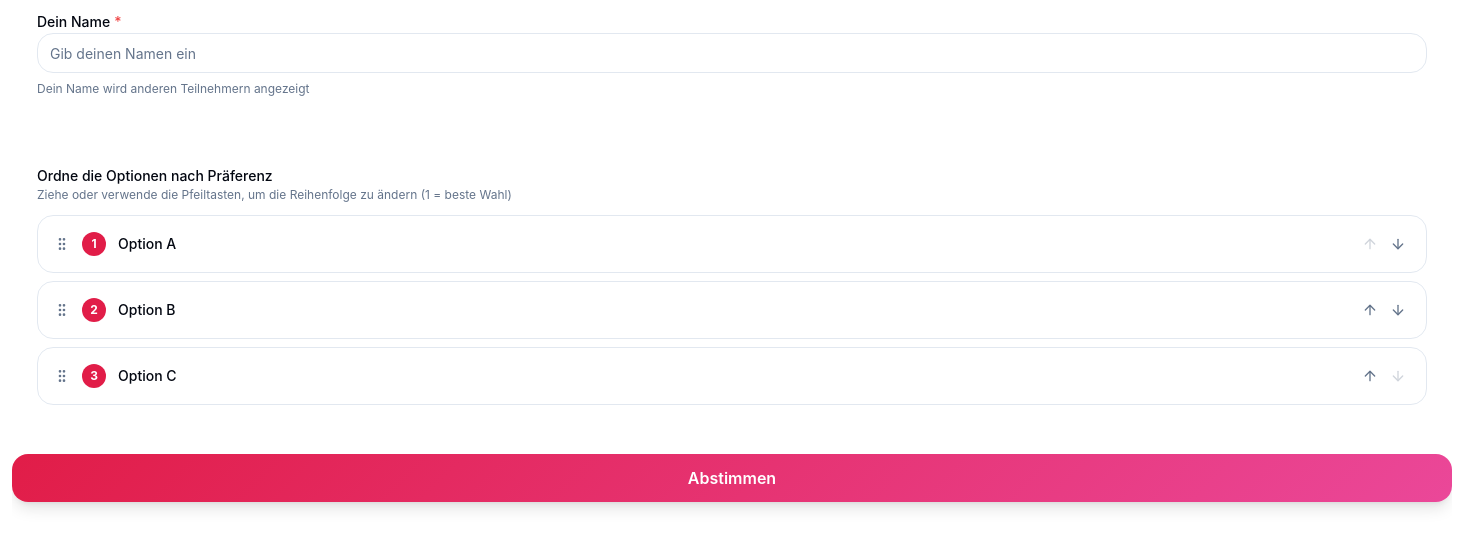
VotingForm › clears ranked validation error after reordering
# Fill in name
Type "Test User" into the field with placeholder "Gib deinen Namen ein".
click(732, 53); type("Test User")  # box [37, 33, 1427, 73]
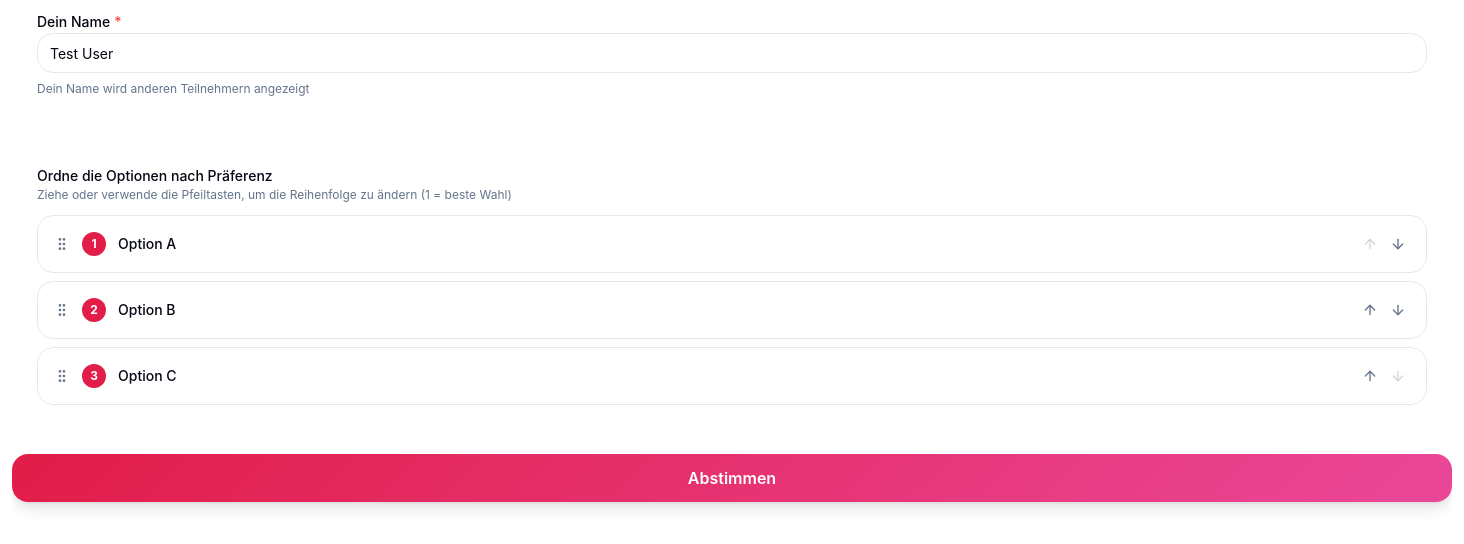
# Submit without reordering
Click the button "Abstimmen".
click(732, 478)  # box [12, 454, 1452, 502]
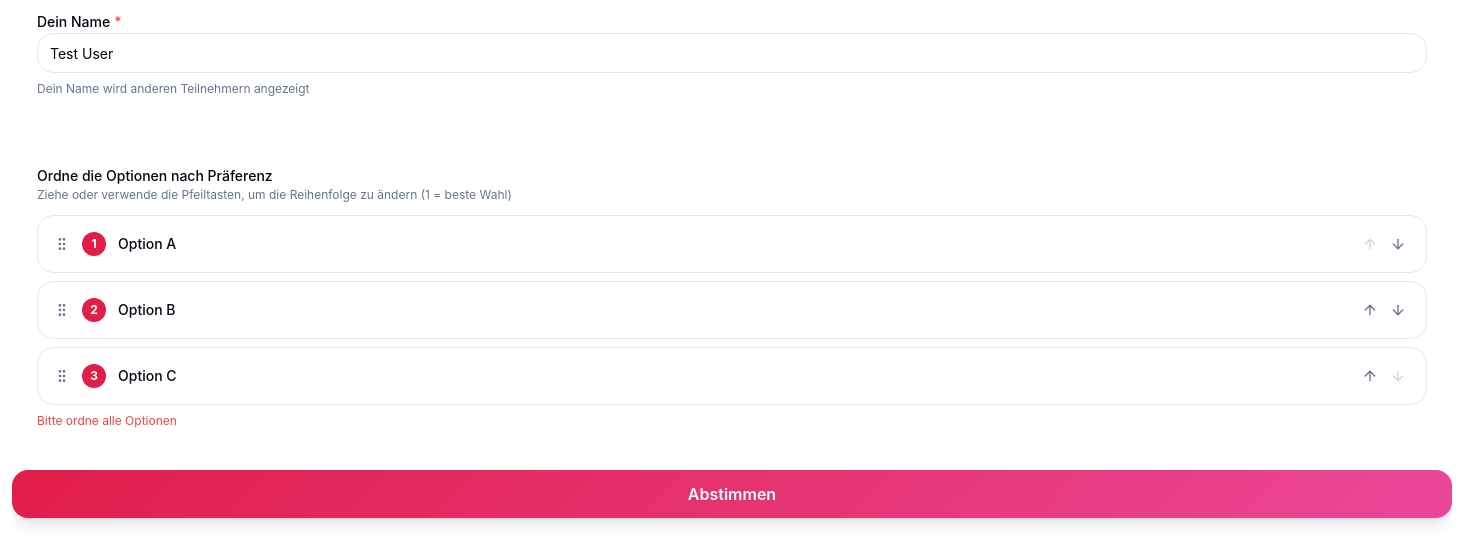
Expected: the text "Bitte ordne alle Optionen" is shown, [37, 413, 177, 428]
# Reorder by clicking move down on first item
Click the button named "Move down" in the row of "Option A".
click(1398, 244)  # box [1386, 232, 1410, 256]
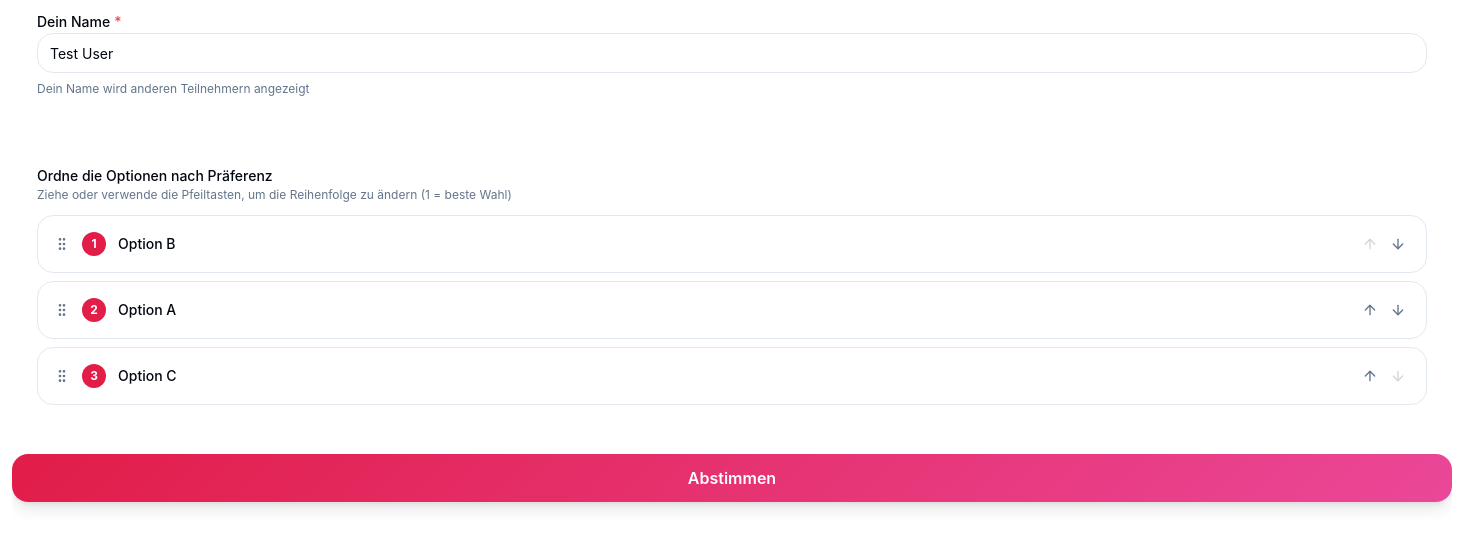
Expected: the text "Bitte ordne alle Optionen" is gone
